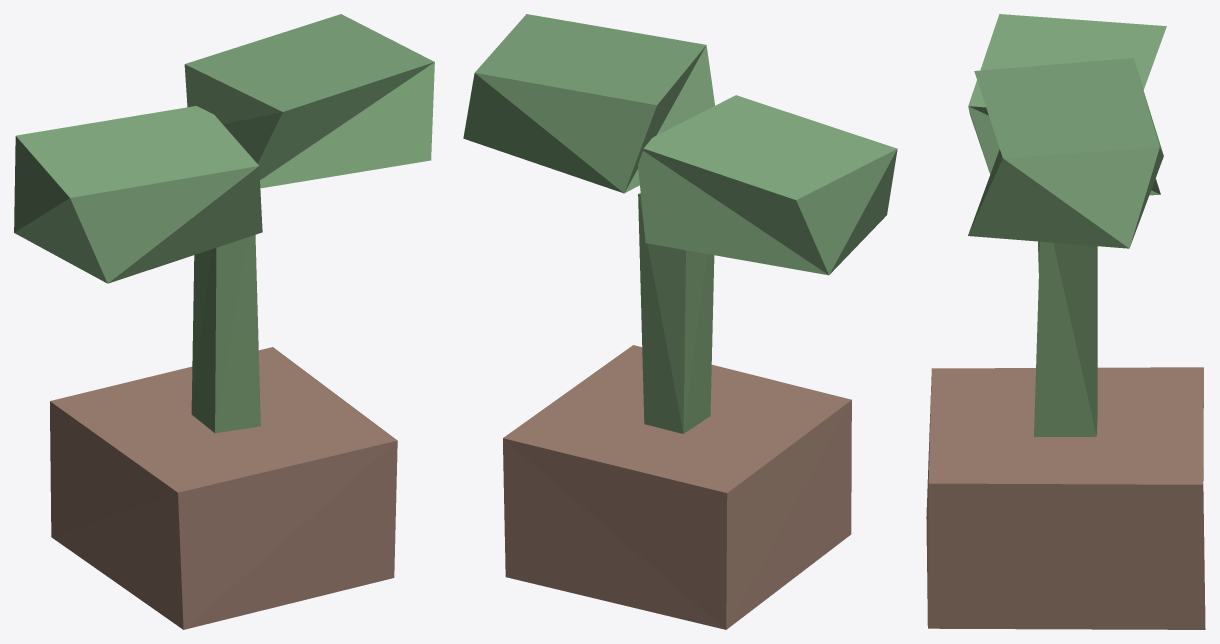
File: plant.glb
3 views of the same model, side by side, from view 1: azimuth 30°, elevation 25°; view 2: azimuth 150°, elevation 25°; view 3: azimuth 270°, elevation 25° (orthographic). The views are drawn at different scales.
Parts seen in each view (by area): view 1: body; view 2: body; view 3: body.
Part boxes in pixels (x1,y1,x2,y2): body: (14, 14, 434, 629); body: (463, 14, 897, 629); body: (926, 14, 1205, 629).
Bounding box in the file's own units: 0.8543 × 1.04 × 0.5154.
